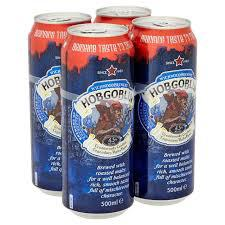beer: (25, 5, 198, 214)
